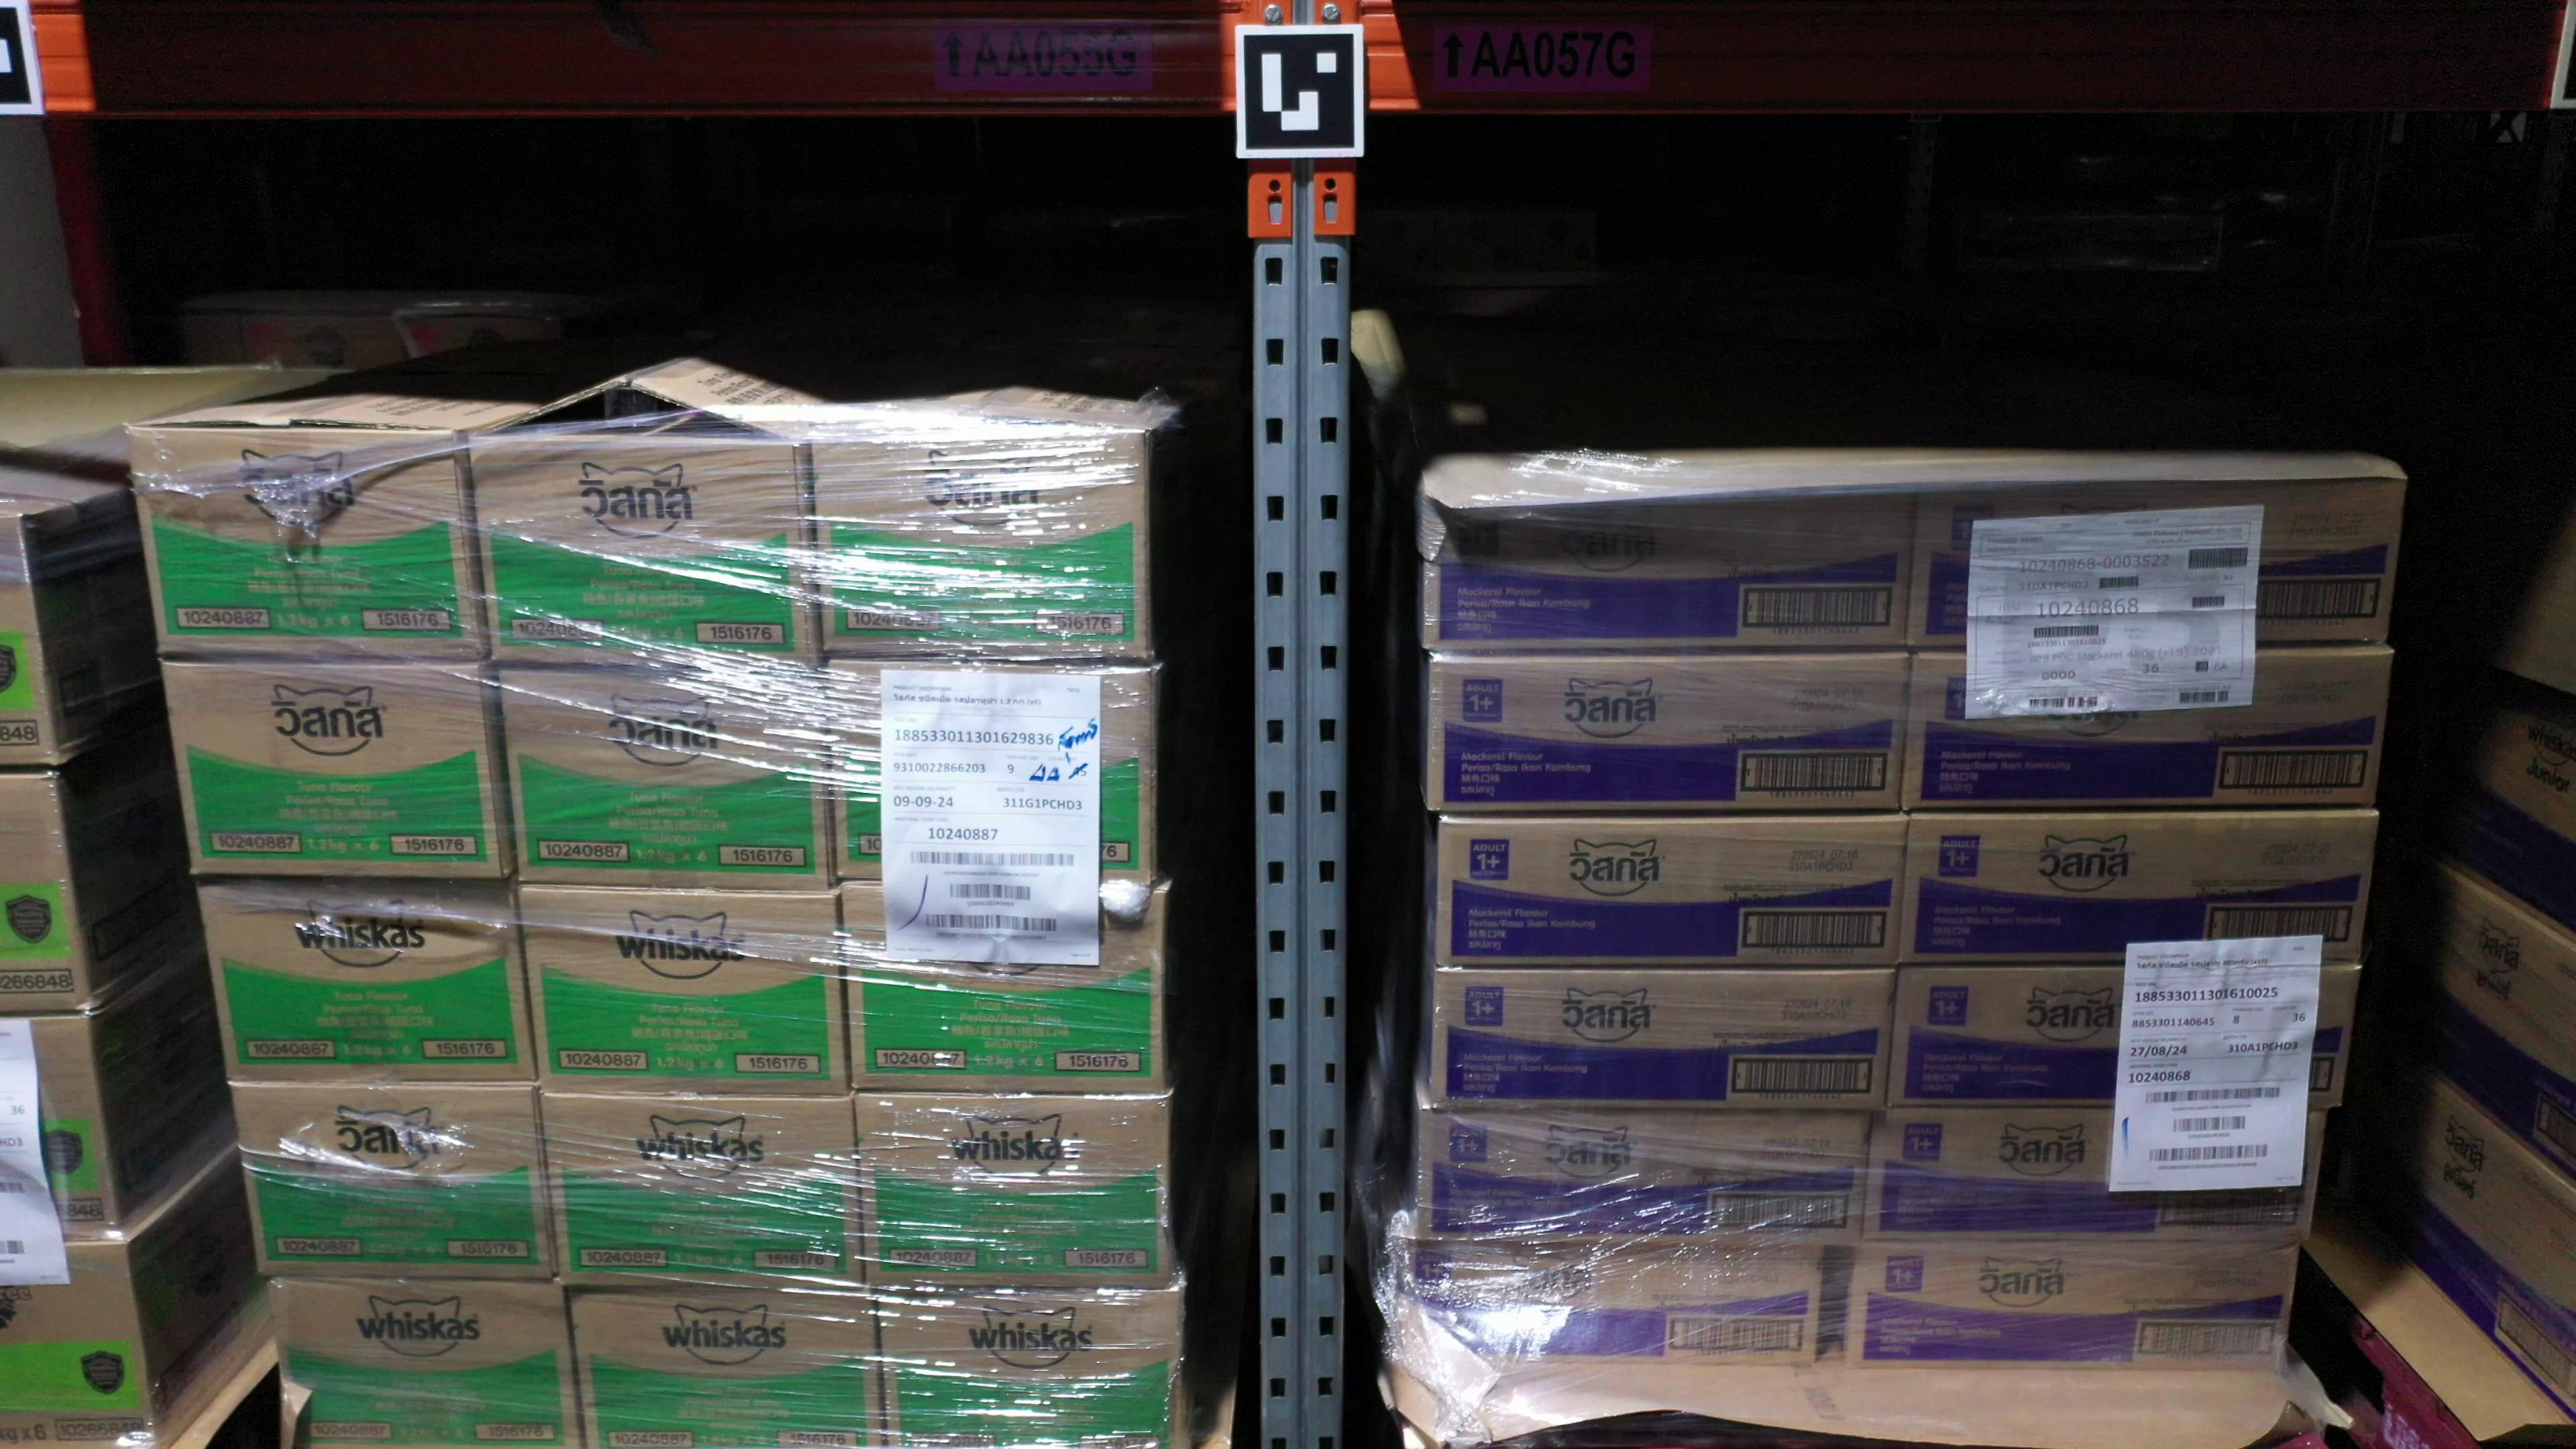-: (1904, 474, 2406, 651), (127, 423, 485, 663), (1422, 485, 1918, 658), (467, 430, 812, 672), (1904, 646, 2396, 814), (1424, 653, 1916, 816), (810, 430, 1150, 660), (159, 660, 506, 879), (1898, 810, 2380, 966), (828, 660, 1154, 890), (499, 667, 832, 890), (515, 883, 849, 1099), (1884, 964, 2365, 1113), (1433, 819, 1913, 968), (1430, 966, 1897, 1116), (198, 879, 534, 1085), (840, 888, 1169, 1095), (1863, 1102, 2325, 1247), (541, 1090, 863, 1295), (228, 1083, 554, 1281), (1417, 1109, 1874, 1247), (1845, 1240, 2296, 1378), (855, 1093, 1171, 1290), (1391, 1231, 1824, 1371), (271, 1277, 586, 1449), (570, 1293, 888, 1449), (876, 1290, 1185, 1449), (0, 1238, 163, 1449), (0, 1008, 127, 1240), (0, 773, 90, 1014), (0, 510, 53, 764)
